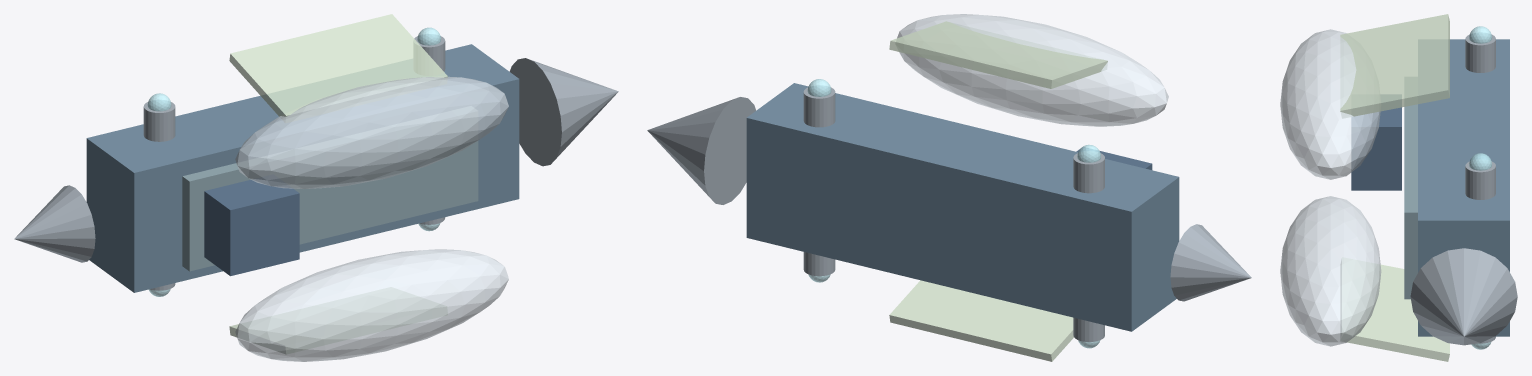
File: SKYSHIP_03_RAINNEEDLE_PATROL_rainneedle_patrol_skiff.glb
3 renders of one model, left to right at view 1: azimuth 30°, elevation 25°; view 2: azimuth 150°, elevation 25°; view 3: azimuth 270°, elevation 25°, orthographic. The views are drawn at different scales.
Visible parts, largest first — view 1: aetherwood_hull, upper_deck, left_aether_cell, right_aether_cell, right_lift_sail, command_cabin, left_lift_sail, forward_ram, stern_finial, right_thruster_-0.59, right_thruster_0.59; view 2: aetherwood_hull, right_aether_cell, left_lift_sail, right_lift_sail, forward_ram, stern_finial, right_thruster_0.59, right_thruster_-0.59, left_thruster_0.59, left_thruster_-0.59; view 3: aetherwood_hull, left_aether_cell, right_aether_cell, right_lift_sail, forward_ram, left_lift_sail, command_cabin, upper_deck, right_thruster_-0.59, right_thruster_0.59, right_thruster_glow_-0.59, right_thruster_glow_0.59.
Part boxes in pixels (bbox=[...]): aetherwood_hull: bbox=[86, 44, 519, 292]; upper_deck: bbox=[182, 106, 478, 271]; left_aether_cell: bbox=[235, 249, 508, 361]; right_aether_cell: bbox=[235, 76, 508, 188]; right_lift_sail: bbox=[229, 14, 447, 122]; command_cabin: bbox=[204, 174, 299, 276]; left_lift_sail: bbox=[229, 287, 447, 354]; forward_ram: bbox=[509, 58, 618, 166]; stern_finial: bbox=[14, 185, 95, 262]; right_thruster_-0.59: bbox=[143, 100, 175, 141]; right_thruster_0.59: bbox=[414, 34, 445, 75]; aetherwood_hull: bbox=[746, 83, 1179, 331]; right_aether_cell: bbox=[897, 14, 1168, 126]; left_lift_sail: bbox=[889, 280, 1073, 361]; right_lift_sail: bbox=[889, 21, 1107, 88]; forward_ram: bbox=[647, 97, 755, 204]; stern_finial: bbox=[1170, 224, 1251, 301]; right_thruster_0.59: bbox=[803, 86, 835, 127]; right_thruster_-0.59: bbox=[1073, 151, 1104, 193]; left_thruster_0.59: bbox=[803, 252, 835, 276]; left_thruster_-0.59: bbox=[1073, 317, 1104, 341]; aetherwood_hull: bbox=[1418, 39, 1509, 336]; left_aether_cell: bbox=[1280, 196, 1381, 346]; right_aether_cell: bbox=[1280, 29, 1380, 179]; right_lift_sail: bbox=[1340, 14, 1449, 118]; forward_ram: bbox=[1410, 248, 1517, 345]; left_lift_sail: bbox=[1340, 257, 1449, 361]; command_cabin: bbox=[1351, 95, 1401, 190]; upper_deck: bbox=[1404, 77, 1417, 299]; right_thruster_-0.59: bbox=[1465, 33, 1495, 72]; right_thruster_0.59: bbox=[1465, 160, 1495, 199]; right_thruster_glow_-0.59: bbox=[1469, 26, 1491, 43]; right_thruster_glow_0.59: bbox=[1469, 153, 1491, 170].
Bounding box in the file's own units: 2.64 × 1.17 × 0.93.
